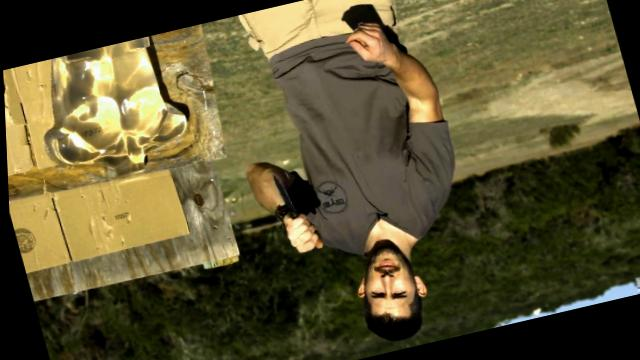pocket-knife: (265, 166, 315, 253)
